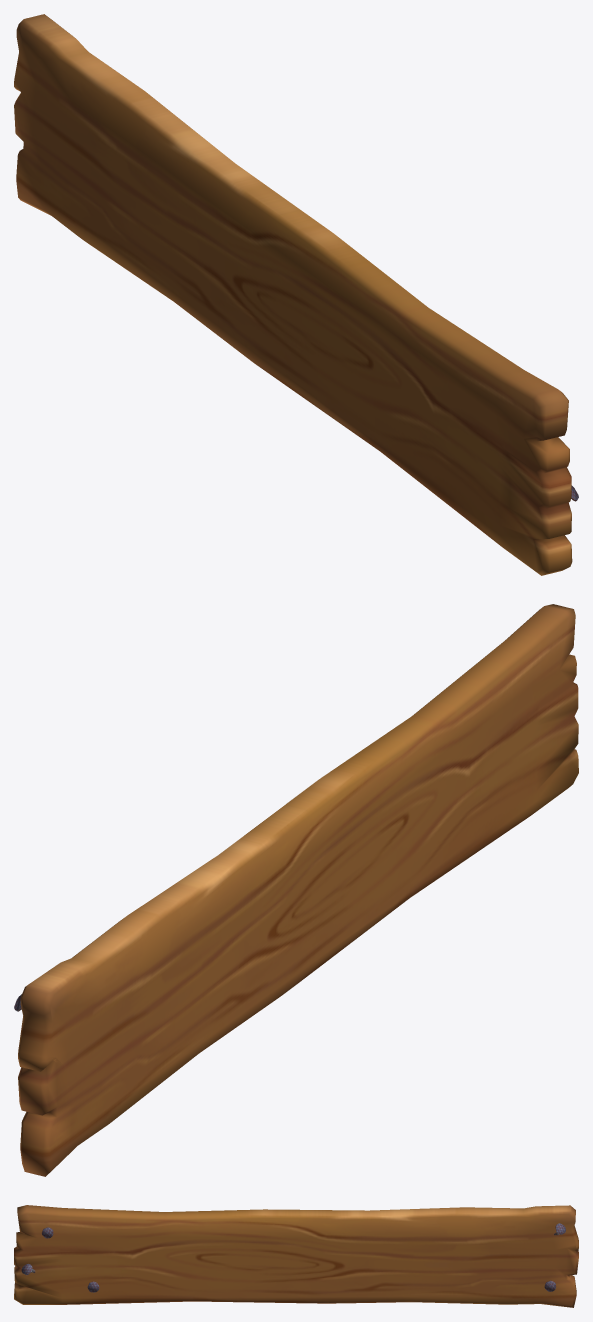
Rendered from accurate_hello_neighbor_concept_art_board.glb.
3 renders of one model, top to bottom at view 1: azimuth 30°, elevation 25°; view 2: azimuth 150°, elevation 25°; view 3: azimuth 270°, elevation 25°, orthographic. The views are drawn at different scales.
Parts seen in each view (by area): view 1: Nail_01.002; view 2: Nail_01.002; view 3: Nail_01.002.
Boxes of the visible parts, x1,y1,x2,y2 form: Nail_01.002: (14,14,578,575); Nail_01.002: (14,604,578,1176); Nail_01.002: (14,1205,578,1307).
Bounding box in the file's own units: 0.1045 × 0.3805 × 2.
2 materials, 2 textured.
